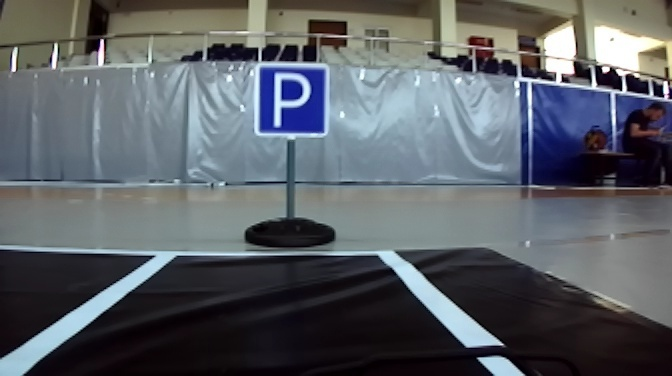park: (254, 64, 326, 137)
